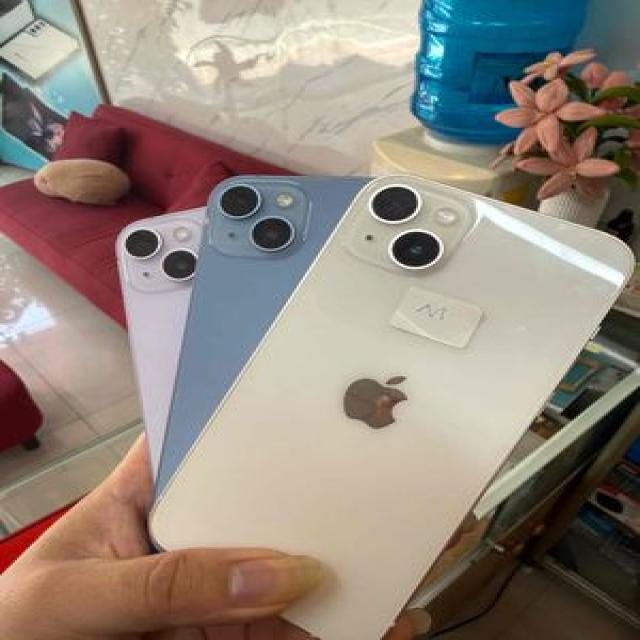gen_14: (139, 172, 621, 626)
